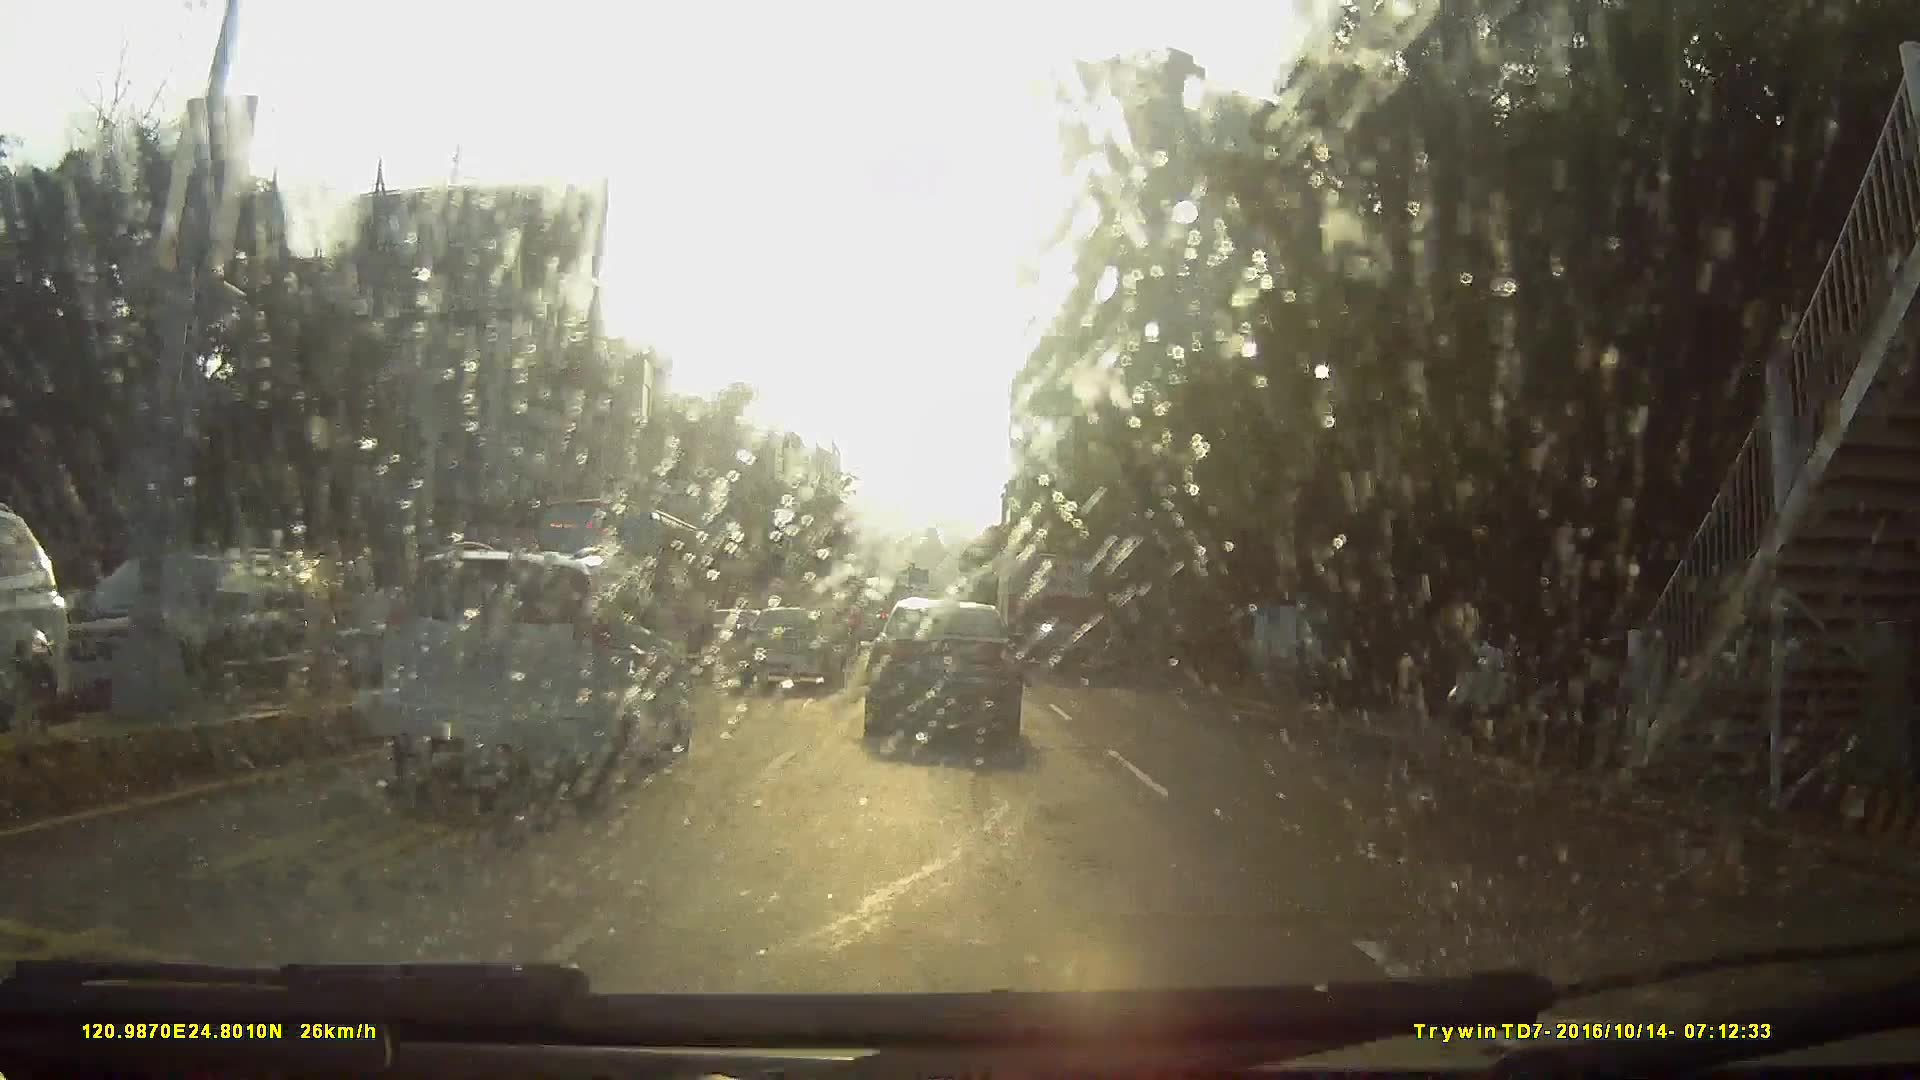vehicle: (251, 556, 684, 868), (378, 542, 695, 793), (510, 495, 723, 659), (862, 593, 1025, 758), (996, 556, 1100, 682), (735, 607, 844, 692), (866, 638, 915, 687)
